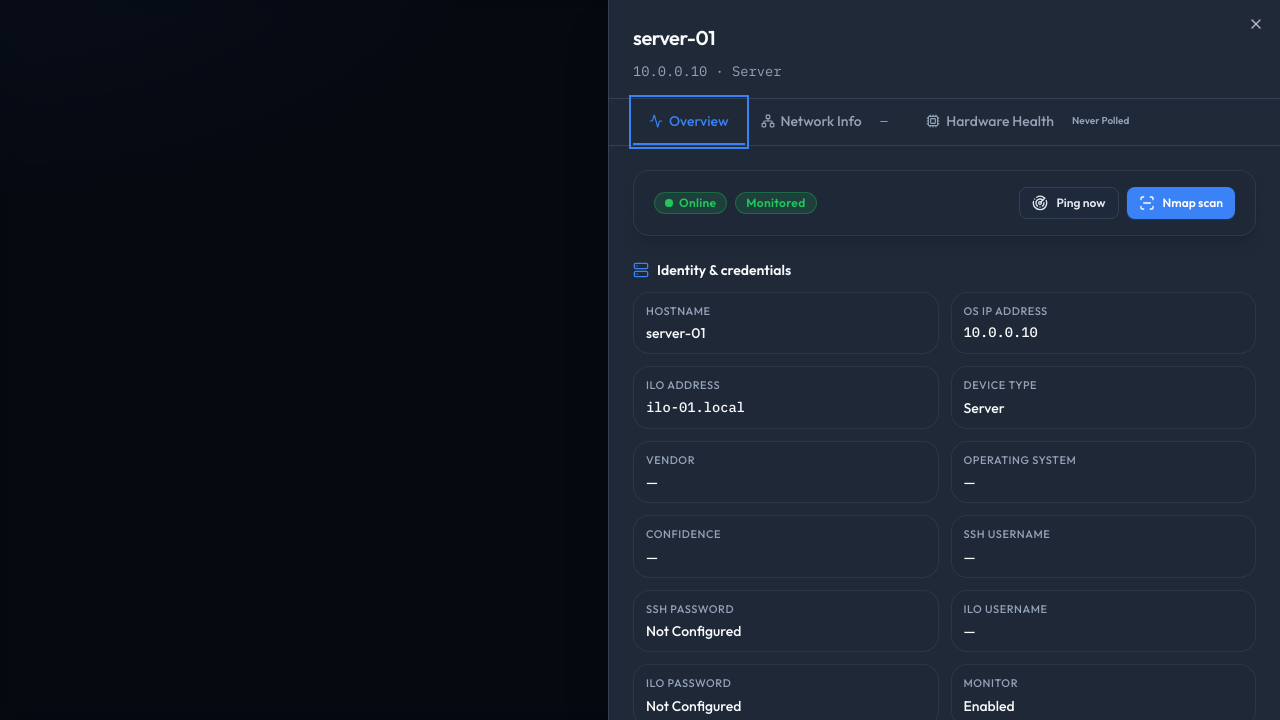
Test case: DeviceDrawer - HPE iLO Hardware & Freshness UI › 5. First Poll Failure state: renders failure card, error message and no fake hardware cards
Click the button "Hardware Health Never Polled".
click(1031, 122)  # box [910, 99, 1151, 145]
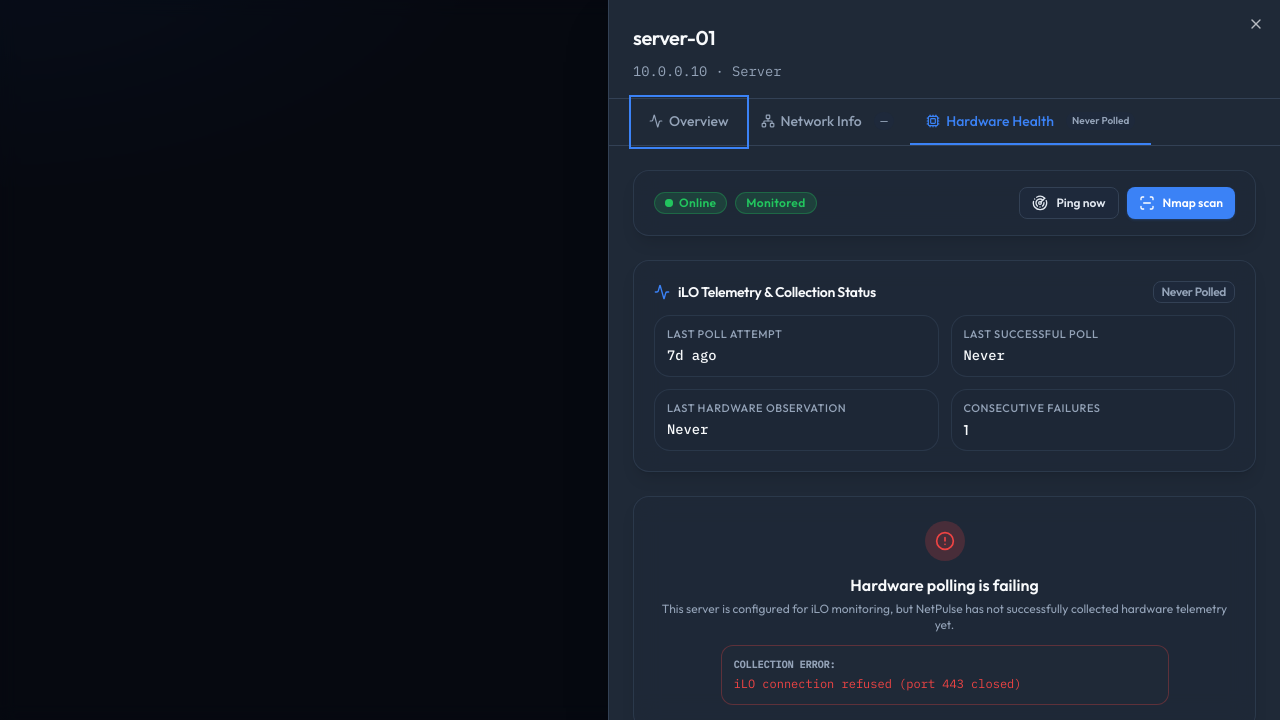
Expected: the heading "Hardware polling is failing" is shown, [850, 575, 1039, 595]
Expected: the text "Collection Error: iLO connection refused (port 443 closed)" is shown, [720, 645, 1168, 705]
